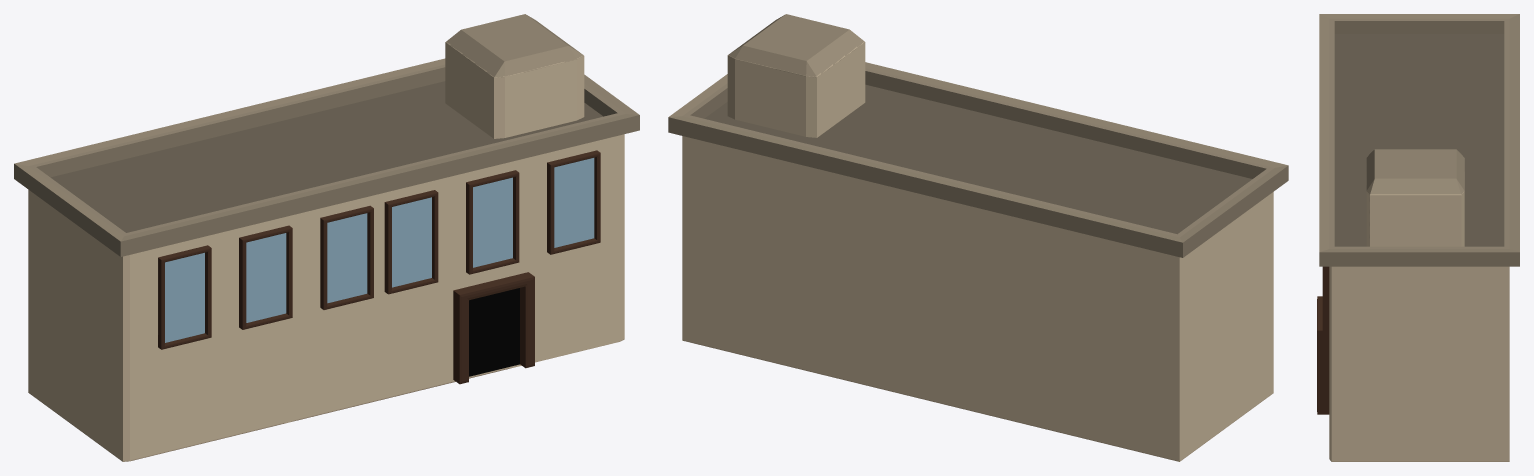
The model's file is Museum.fbx.
3 renders of one model, left to right at view 1: azimuth 30°, elevation 25°; view 2: azimuth 150°, elevation 25°; view 3: azimuth 270°, elevation 25°, orthographic. The views are drawn at different scales.
Parts seen in each view (by area): view 1: Cube.002; view 2: Cube.002; view 3: Cube.002.
Boxes of the visible parts, x1,y1,x2,y2 form: Cube.002: [14, 14, 639, 461]; Cube.002: [668, 14, 1288, 461]; Cube.002: [1317, 14, 1519, 461].
Size of the model in its own units: 7216 by 3786 by 2595.
Materials: 3 (3 with a texture image).
